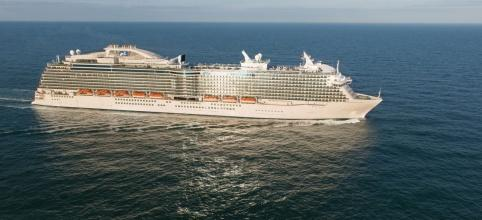youlun: (28, 34, 383, 121)
